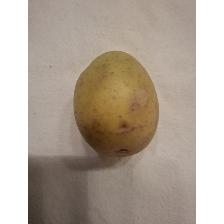Kartoffel: (71, 46, 163, 160)
